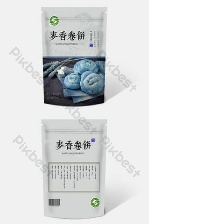snack: (34, 0, 113, 111), (36, 113, 111, 224)
